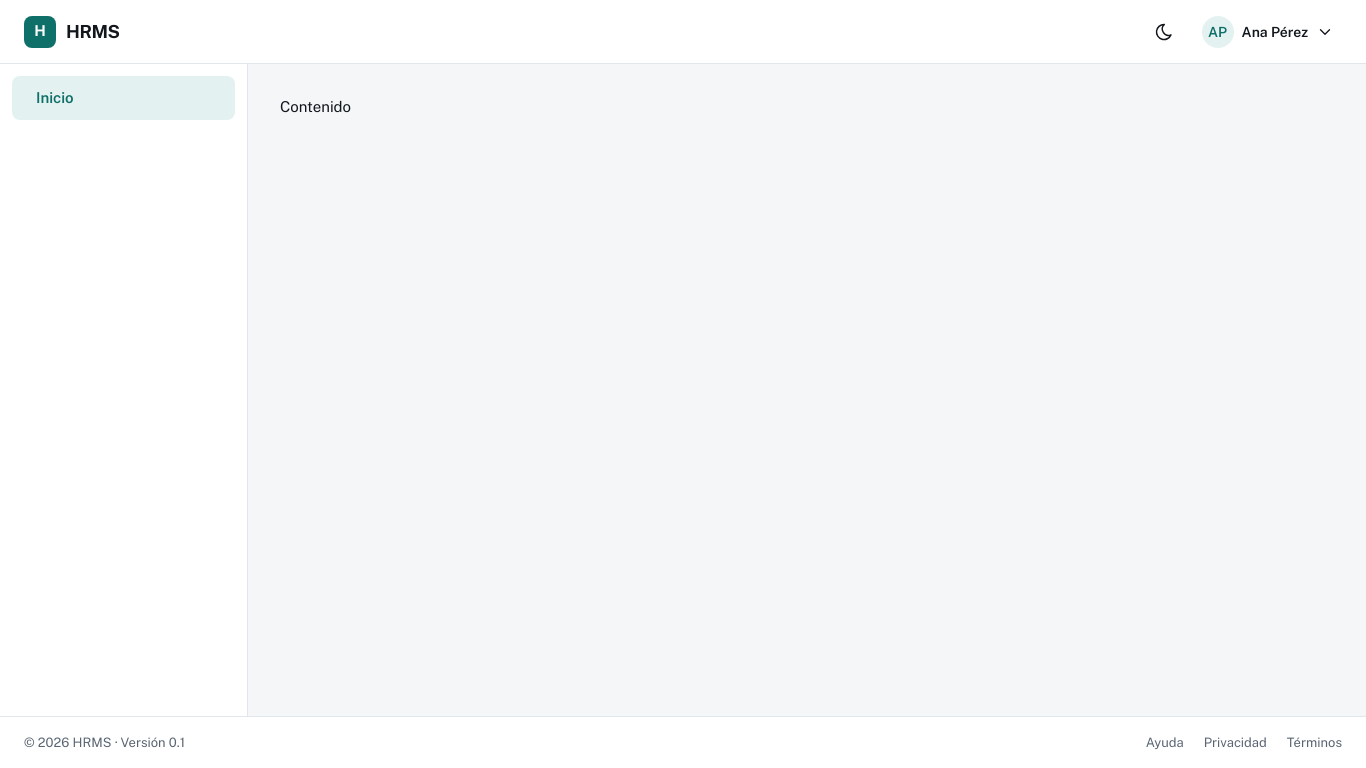
AppShell › deshabilita el cierre de sesión mientras está en curso
The image size is (1366, 768).
Click the button with aria-label "Menú de usuario": (1268, 32) x1=1194 y1=10 x2=1342 y2=54
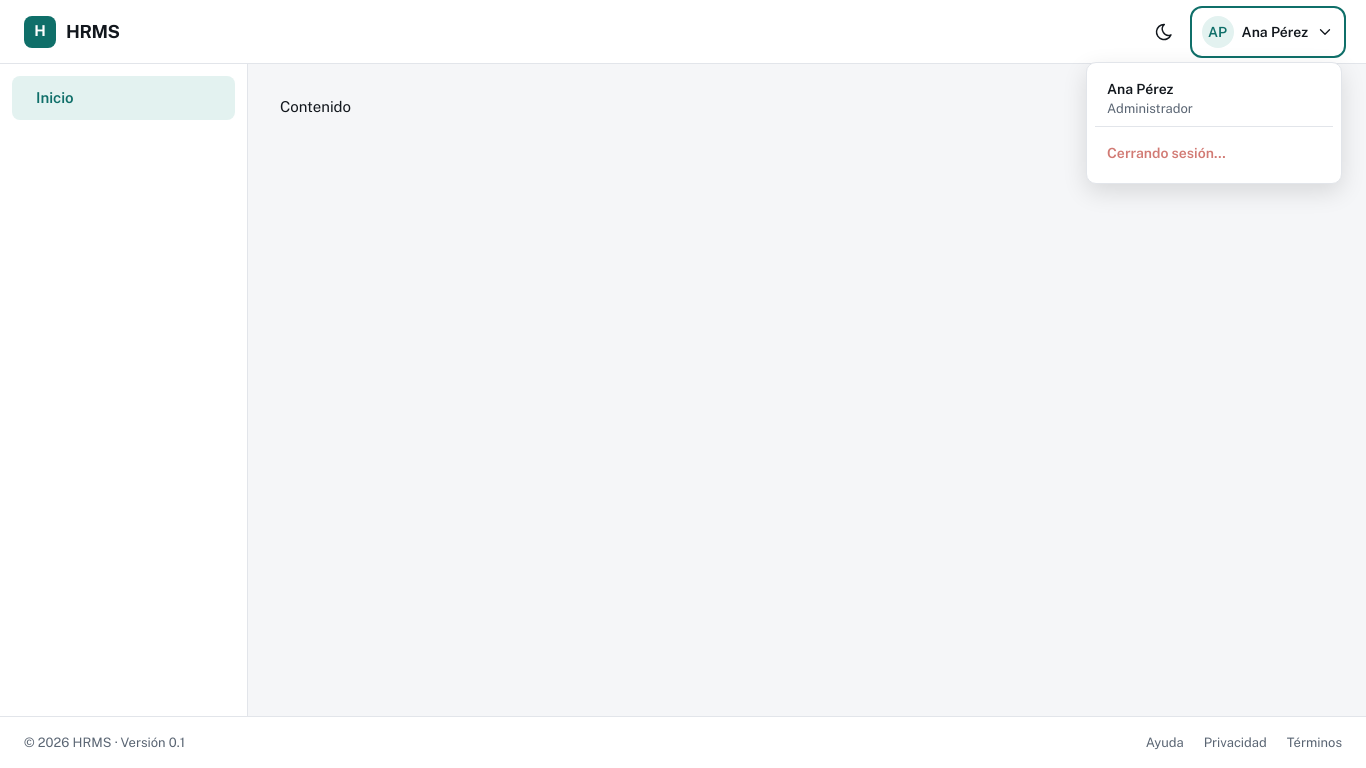
Result: the menu item "Cerrando sesión…" is disabled at x1=1095 y1=131 x2=1333 y2=175
